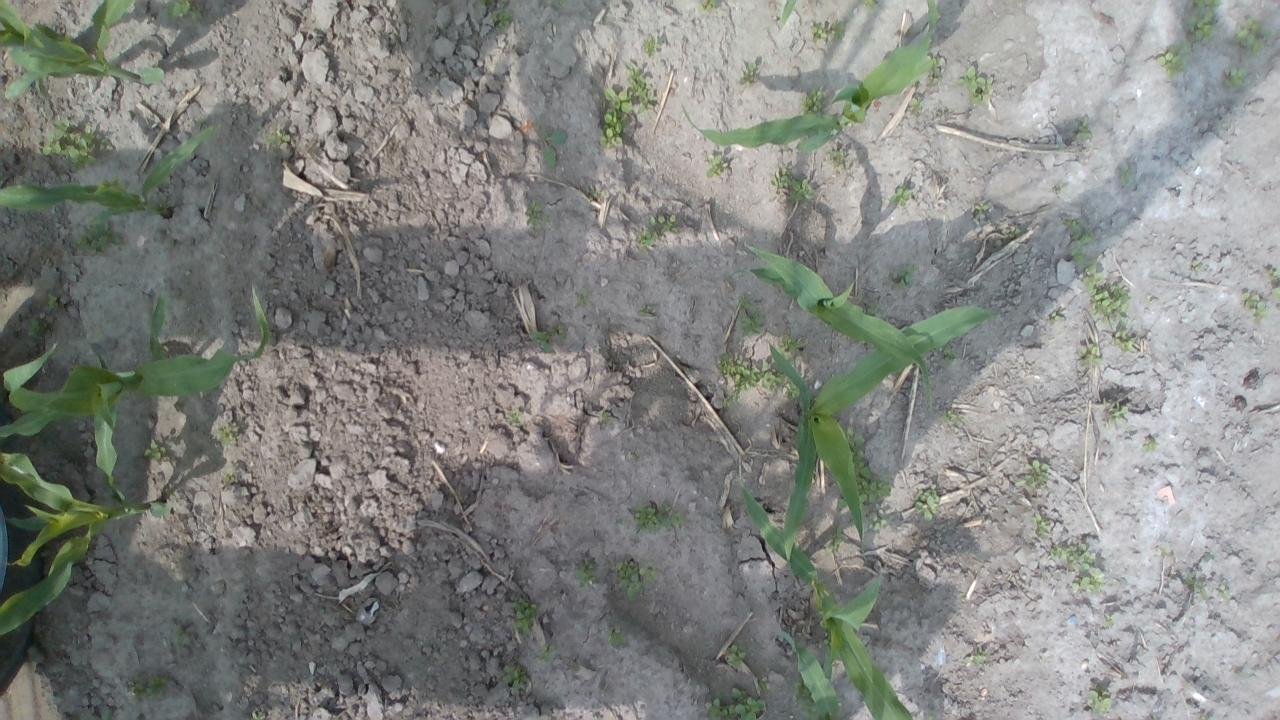Maize: (768, 302, 997, 591), (0, 280, 274, 506), (738, 470, 918, 718), (680, 0, 941, 155), (738, 239, 936, 413), (0, 450, 174, 641), (0, 119, 227, 226), (0, 2, 166, 103), (774, 629, 851, 720), (778, 0, 798, 27)
Weeds: (1034, 505, 1110, 596), (1064, 218, 1132, 318), (836, 424, 892, 534), (720, 338, 804, 406), (598, 59, 660, 151), (1162, 545, 1236, 605), (32, 118, 110, 169), (624, 502, 692, 540), (608, 556, 664, 601), (702, 686, 768, 718), (75, 214, 126, 255), (770, 162, 816, 204), (954, 63, 994, 106), (636, 214, 680, 251), (1181, 0, 1219, 41), (1231, 16, 1268, 52), (539, 122, 566, 166), (508, 596, 540, 633), (806, 18, 848, 45), (738, 296, 766, 334), (574, 552, 598, 592), (794, 676, 816, 718), (1022, 458, 1052, 488), (1085, 686, 1114, 716), (501, 662, 528, 694), (130, 677, 170, 698), (826, 144, 854, 172), (1160, 45, 1188, 73), (723, 642, 749, 671), (166, 2, 203, 22), (1074, 343, 1100, 371), (1110, 324, 1138, 350), (1244, 290, 1268, 320), (610, 625, 634, 654), (961, 642, 989, 666), (738, 59, 762, 87), (915, 487, 935, 520), (702, 152, 729, 176), (928, 52, 947, 86), (525, 201, 548, 229), (145, 439, 167, 468), (804, 83, 826, 111), (526, 330, 554, 352), (1106, 401, 1132, 424), (886, 266, 912, 289), (492, 1, 514, 28), (940, 407, 969, 427), (212, 425, 240, 445), (826, 531, 848, 555), (262, 131, 292, 148), (1223, 70, 1251, 88), (889, 185, 912, 206), (1071, 114, 1090, 139), (1118, 161, 1138, 183), (906, 92, 925, 114), (1265, 264, 1278, 296), (172, 627, 191, 647), (639, 34, 658, 54), (974, 202, 994, 220), (507, 410, 527, 428), (819, 633, 834, 656), (861, 1, 884, 16), (23, 318, 42, 336), (44, 296, 62, 314), (1100, 614, 1117, 632), (699, 0, 723, 12), (1144, 434, 1158, 452), (220, 474, 238, 487), (542, 646, 556, 659), (1194, 258, 1206, 273), (576, 293, 588, 308), (560, 322, 568, 339)
